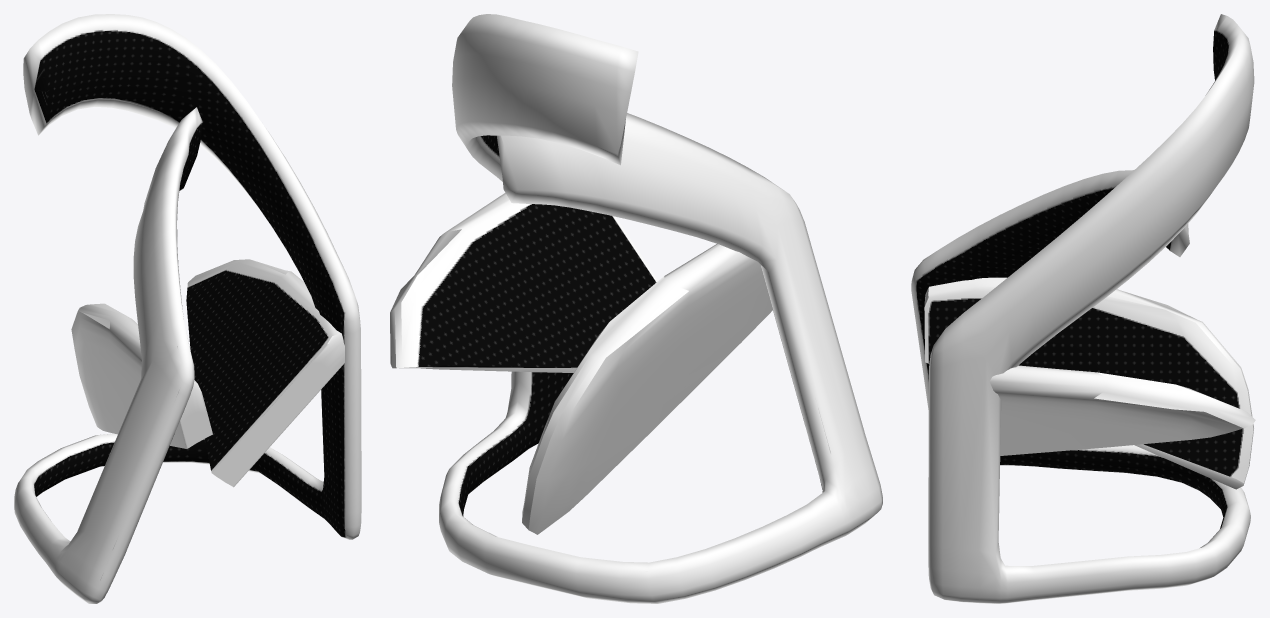
The model's file is broken_chair2.fbx.
3 views of the same model, side by side, from view 1: azimuth 30°, elevation 25°; view 2: azimuth 150°, elevation 25°; view 3: azimuth 270°, elevation 25° (orthographic). The views are drawn at different scales.
Visible parts, largest first — view 1: Chair, Chair.002, Chair.001; view 2: Chair, Chair.002, Chair.001; view 3: Chair, Chair.001, Chair.002.
Part boxes in pixels (x1=…): Chair: x1=14, y1=14, x2=361, y2=603; Chair.002: x1=186, y1=259, x2=344, y2=487; Chair.001: x1=71, y1=303, x2=212, y2=448; Chair: x1=439, y1=14, x2=882, y2=603; Chair.002: x1=390, y1=193, x2=658, y2=372; Chair.001: x1=522, y1=244, x2=772, y2=534; Chair: x1=911, y1=14, x2=1254, y2=603; Chair.001: x1=924, y1=277, x2=1253, y2=489; Chair.002: x1=989, y1=365, x2=1255, y2=455.
Bounding box in the file's own units: 79.48 × 122 × 76.05.
2 materials, 2 textured.
